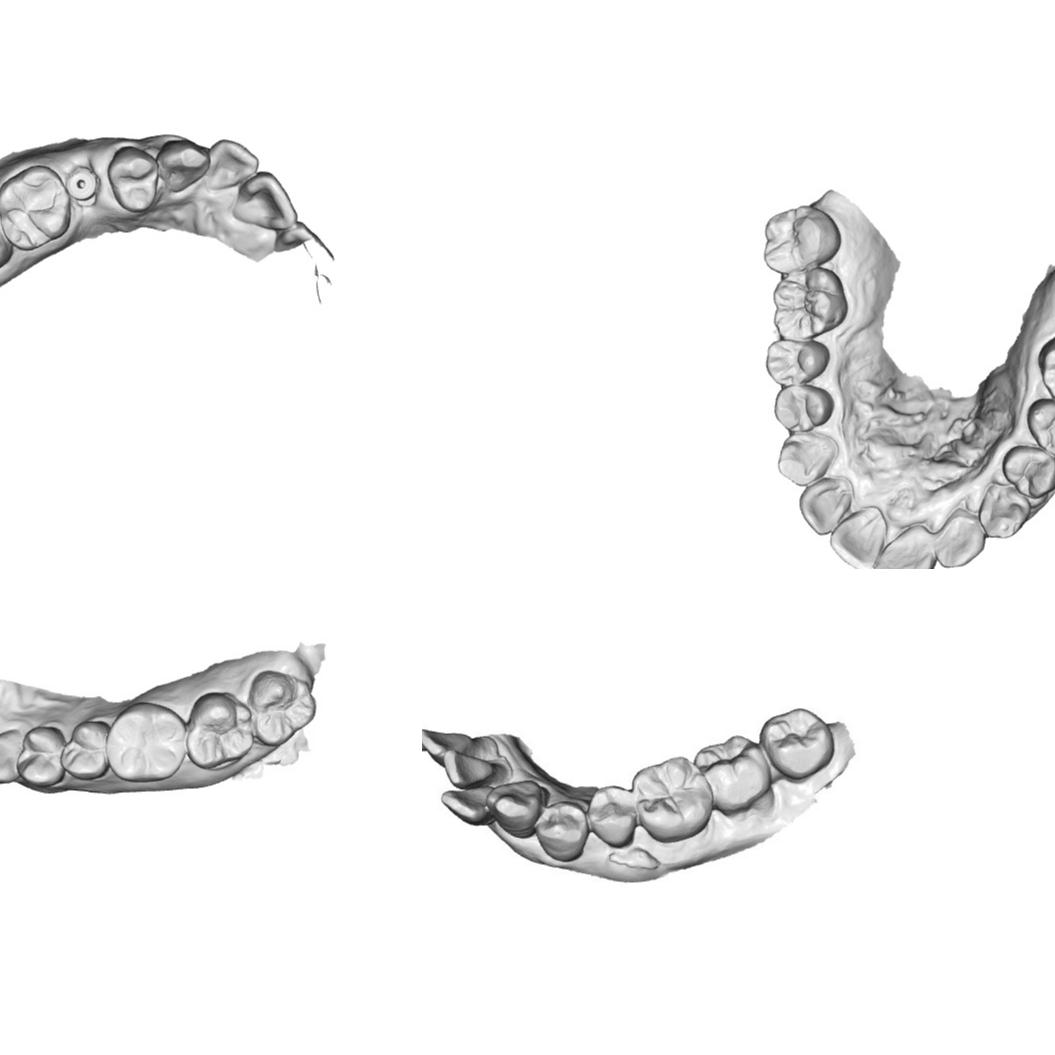canine: (776, 431, 839, 487), (489, 777, 544, 839), (156, 139, 211, 200), (978, 481, 1030, 539), (0, 727, 23, 785)
implant: (64, 160, 102, 204)
incisor: (228, 169, 299, 233), (829, 505, 887, 569), (797, 476, 854, 536), (201, 138, 258, 195), (936, 506, 986, 569), (871, 521, 936, 569), (440, 784, 497, 825), (447, 751, 499, 787), (422, 726, 473, 760)
molar: (633, 754, 712, 844), (105, 701, 188, 783), (0, 162, 71, 251), (755, 706, 836, 784), (770, 266, 848, 340), (699, 732, 770, 812), (762, 204, 842, 274), (248, 669, 318, 747), (186, 690, 253, 770), (1037, 323, 1055, 410)
premolar: (104, 143, 161, 214), (765, 337, 831, 387), (59, 719, 112, 781), (15, 725, 66, 788), (772, 384, 835, 432), (1001, 444, 1055, 499), (536, 805, 588, 861), (588, 785, 636, 844), (1025, 397, 1055, 457)
